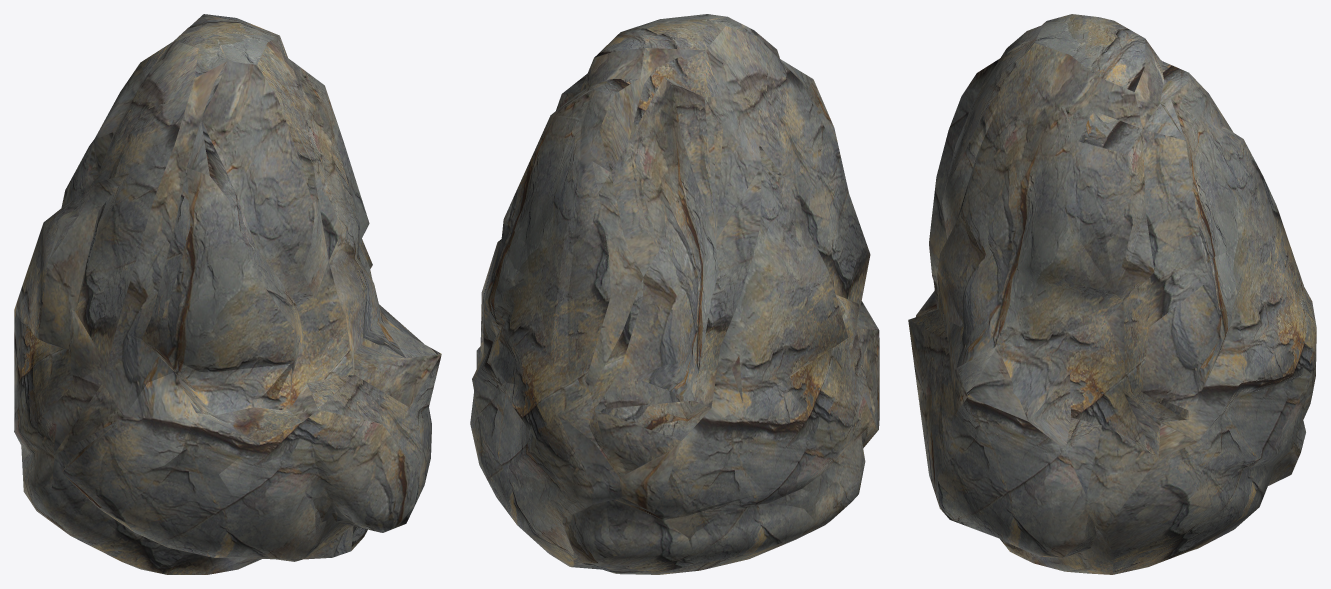
File: Boulder_01.DAE
3 renders of one model, left to right at view 1: azimuth 30°, elevation 25°; view 2: azimuth 150°, elevation 25°; view 3: azimuth 270°, elevation 25°, orthographic. The views are drawn at different scales.
Parts seen in each view (by area): view 1: BoulderOne300, BoulderOne100, BoulderOne200; view 2: BoulderOne300, BoulderOne200, BoulderOne100; view 3: BoulderOne300, BoulderOne200, BoulderOne100.
Part boxes in pixels (x1,y1,x2,y2): BoulderOne300: (14,14,441,574); BoulderOne100: (14,14,381,557); BoulderOne200: (14,32,423,574); BoulderOne300: (470,14,879,574); BoulderOne200: (485,20,879,561); BoulderOne100: (481,17,878,552); BoulderOne300: (908,14,1316,574); BoulderOne200: (948,14,1316,574); BoulderOne100: (908,21,1316,557).
Size of what is drawn, in the model's own units: 4.62 by 4.65 by 6.17.
